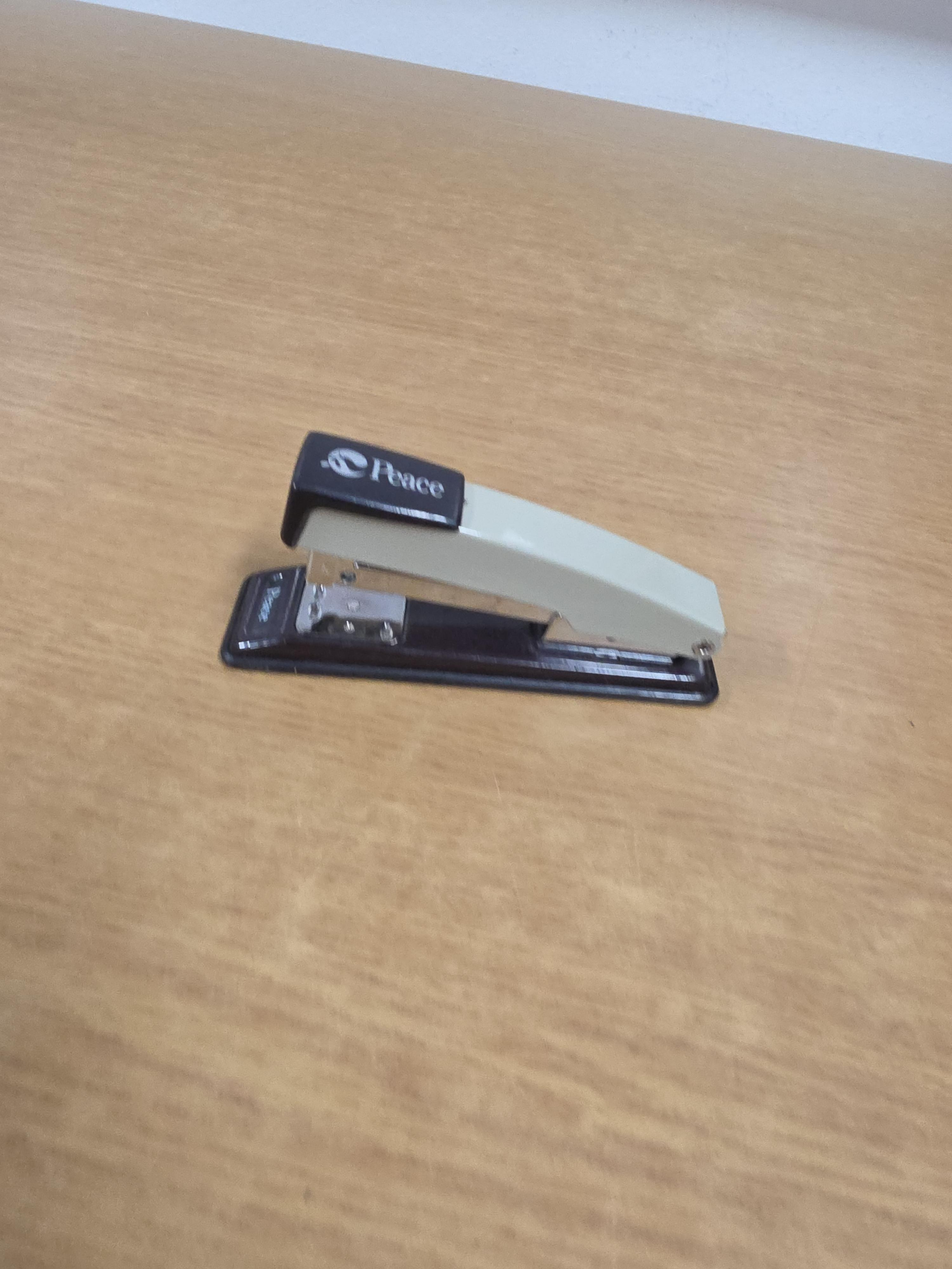stapler: (218, 428, 728, 707)
